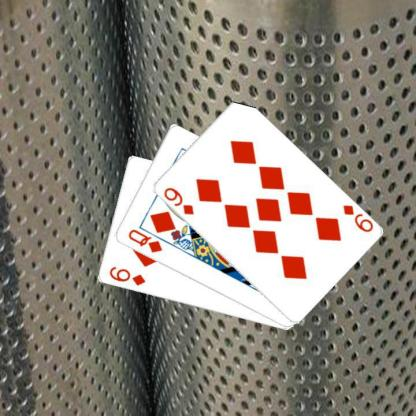6D: (106, 264, 146, 287)
9D: (160, 185, 194, 216), (340, 203, 374, 234)
QD: (126, 227, 164, 254)
